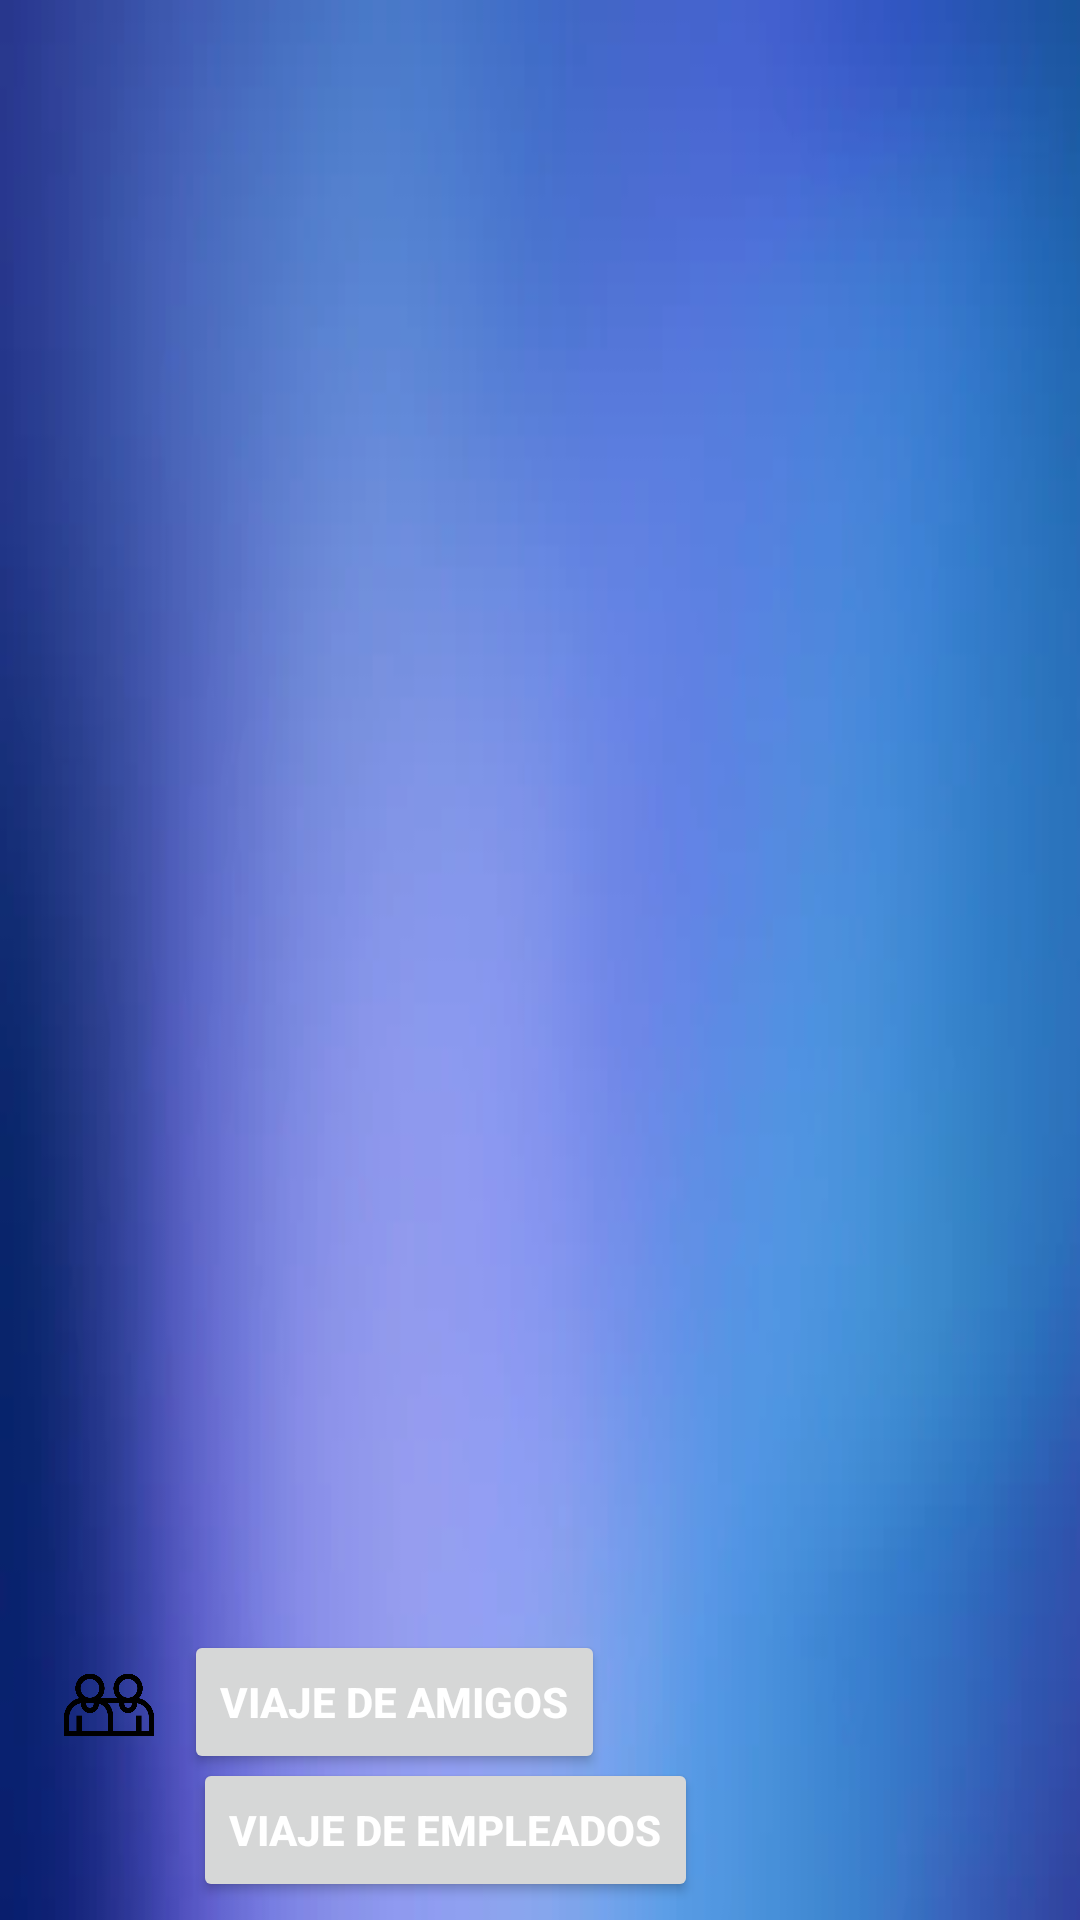

Icons on this 1080 x 1920 Android screen, each with the point to tap as point (x, y):
amistad: point (109, 1705)
